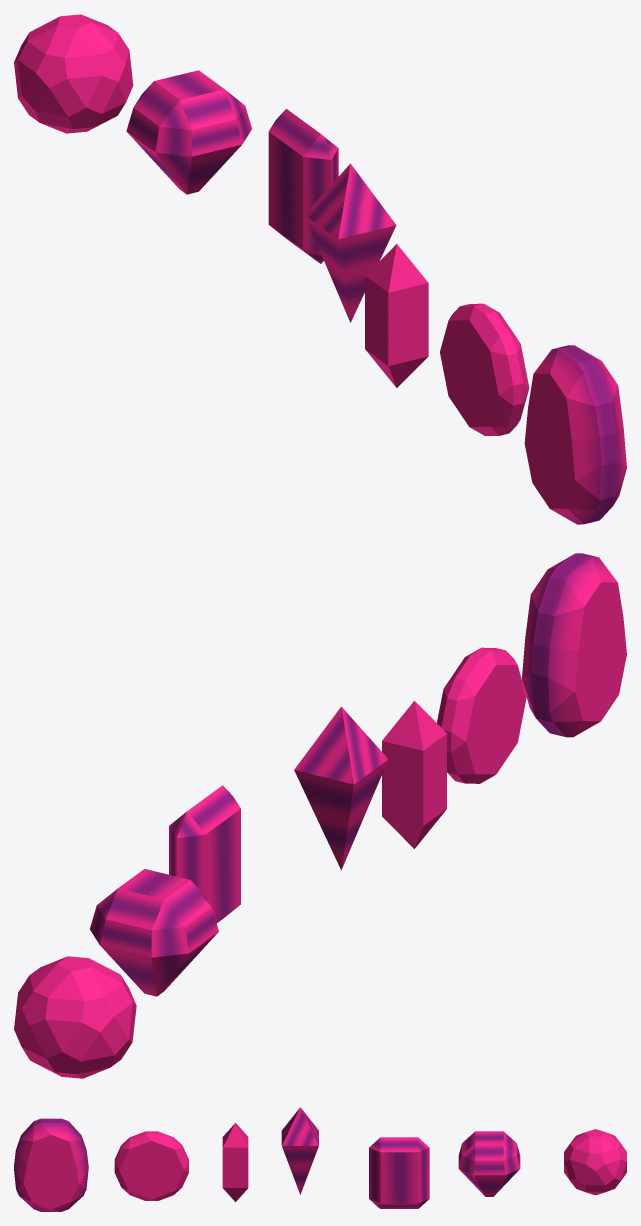
The model's file is CC0_crystal_gems.glb.
The picture shows the model from 3 angles, top to bottom: view 1: azimuth 30°, elevation 25°; view 2: azimuth 150°, elevation 25°; view 3: azimuth 270°, elevation 25°; orthographic projection. The views are drawn at different scales.
Visible parts, largest first — view 1: Gem6_Cylinder.003, Gem7_Icosphere.001, Gem2_Cube.002, Gem5_Cylinder.001, Gem3_Cube.003, Gem4_Cube.004, Gem1_Cube; view 2: Gem6_Cylinder.003, Gem7_Icosphere.001, Gem2_Cube.002, Gem5_Cylinder.001, Gem3_Cube.003, Gem4_Cube.004, Gem1_Cube; view 3: Gem6_Cylinder.003, Gem5_Cylinder.001, Gem1_Cube, Gem7_Icosphere.001, Gem2_Cube.002, Gem3_Cube.003, Gem4_Cube.004.
Part boxes in pixels (<box>): Gem6_Cylinder.003: <box>524,345,626,524</box>; Gem7_Icosphere.001: <box>14,14,133,133</box>; Gem2_Cube.002: <box>126,70,251,194</box>; Gem5_Cylinder.001: <box>440,303,529,436</box>; Gem3_Cube.003: <box>304,163,396,322</box>; Gem4_Cube.004: <box>365,244,428,387</box>; Gem1_Cube: <box>268,109,338,263</box>; Gem6_Cylinder.003: <box>522,553,626,737</box>; Gem7_Icosphere.001: <box>14,956,136,1078</box>; Gem2_Cube.002: <box>90,869,218,996</box>; Gem5_Cylinder.001: <box>437,647,526,783</box>; Gem3_Cube.003: <box>294,706,388,870</box>; Gem4_Cube.004: <box>382,701,446,848</box>; Gem1_Cube: <box>169,785,240,922</box>; Gem6_Cylinder.003: <box>14,1118,88,1211</box>; Gem5_Cylinder.001: <box>114,1131,188,1200</box>; Gem1_Cube: <box>369,1137,429,1208</box>; Gem7_Icosphere.001: <box>564,1129,626,1195</box>; Gem2_Cube.002: <box>458,1131,520,1196</box>; Gem3_Cube.003: <box>281,1107,318,1194</box>; Gem4_Cube.004: <box>222,1123,248,1201</box>.
Bounding box in the file's own units: 0.6547 × 0.9599 × 5.19.
1 material, 1 textured.
